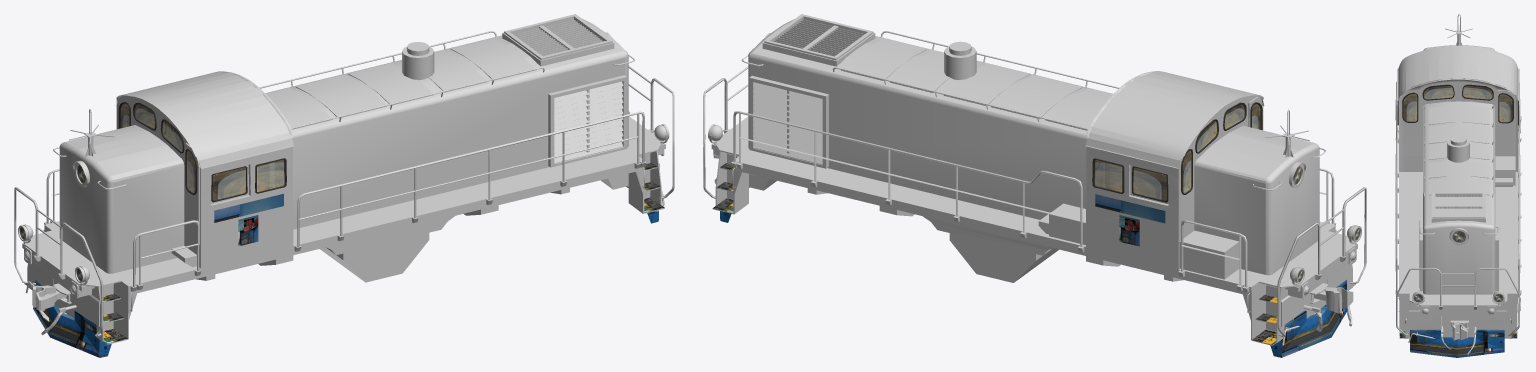
Rendered from locomotive.FBX.
The picture shows the model from 3 angles, left to right: view 1: azimuth 30°, elevation 25°; view 2: azimuth 150°, elevation 25°; view 3: azimuth 270°, elevation 25°; orthographic projection. The views are drawn at different scales.
Parts seen in each view (by area): view 1: Box006, cabin; view 2: Box006, cabin; view 3: Box006, cabin.
Part boxes in pixels (bbox=[...]): Box006: bbox=[14, 14, 674, 357]; cabin: bbox=[117, 95, 284, 205]; Box006: bbox=[703, 14, 1366, 357]; cabin: bbox=[1094, 95, 1263, 205]; Box006: bbox=[1395, 14, 1521, 357]; cabin: bbox=[1401, 79, 1515, 155].
Size of the model in its own units: 63.73 by 21.23 by 15.76.
5 materials, 4 textured.
